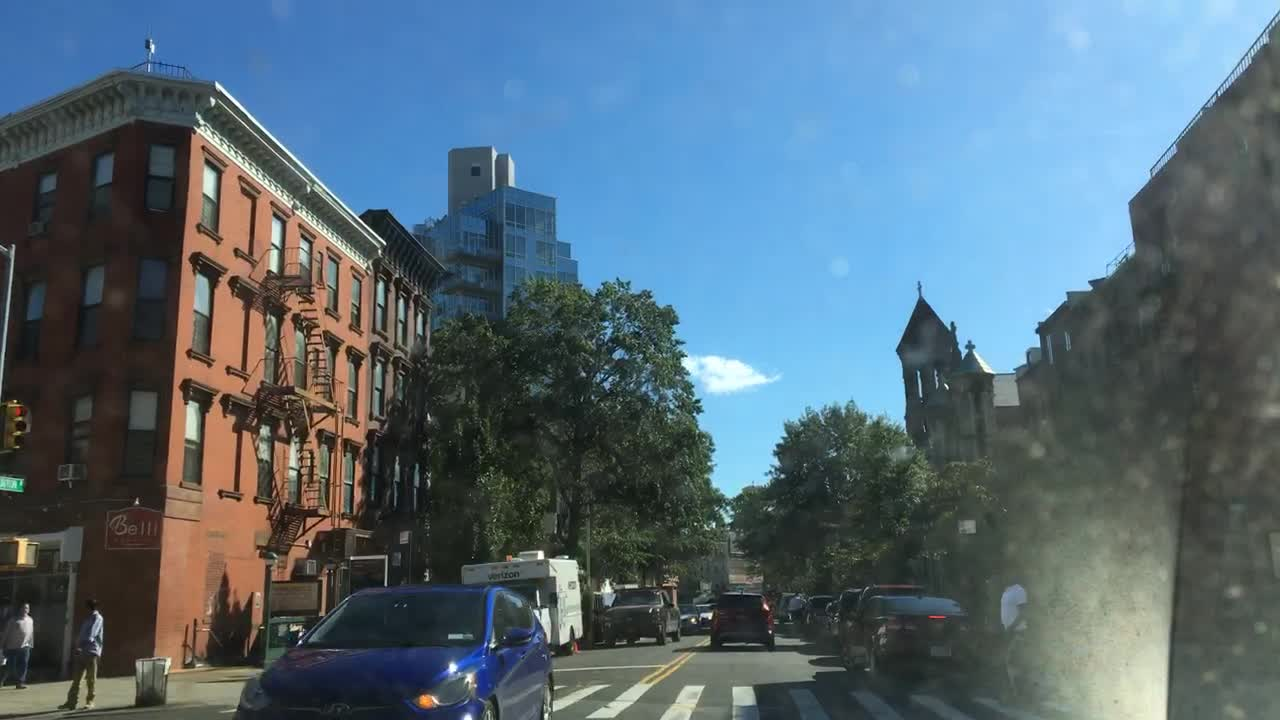car: (234, 580, 553, 719), (835, 592, 980, 688), (835, 575, 928, 658), (597, 582, 681, 651), (705, 589, 776, 653), (820, 585, 860, 648), (798, 589, 835, 639), (671, 601, 698, 636), (773, 590, 795, 624), (783, 594, 806, 624), (695, 601, 715, 624)
person: (989, 563, 1044, 705), (52, 597, 106, 712), (0, 597, 35, 690)
traffic light: (3, 400, 30, 455), (0, 533, 25, 575), (20, 543, 40, 570)
traffic sign: (0, 476, 23, 493), (955, 520, 975, 535)
truck: (457, 547, 585, 660)
